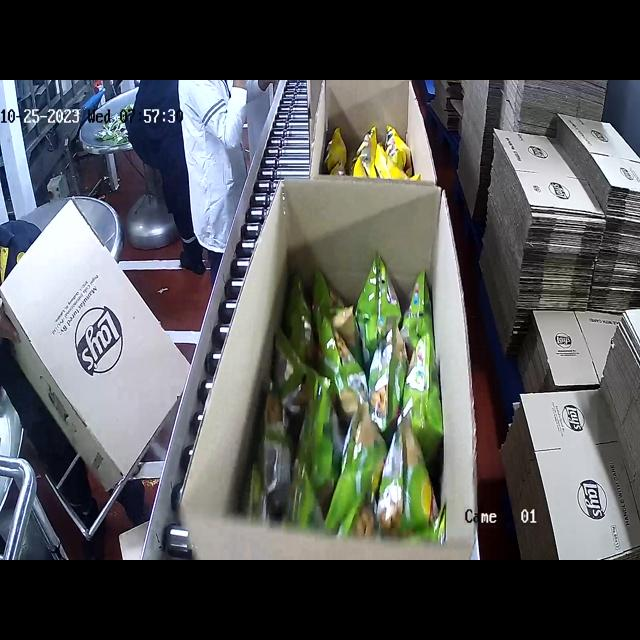salted: (328, 114, 434, 184)
yogurt: (287, 249, 434, 543)
